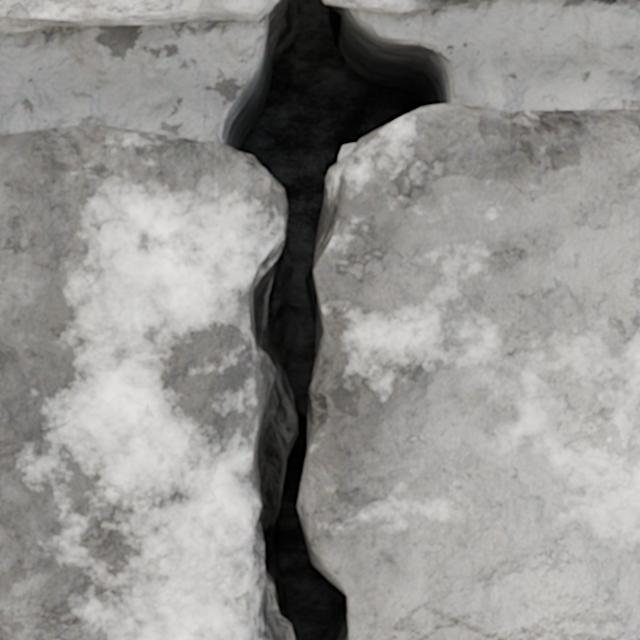broken_brick: (308, 103, 639, 639), (0, 123, 277, 639), (0, 0, 272, 34), (323, 0, 489, 13)
crack: (219, 0, 459, 639)
